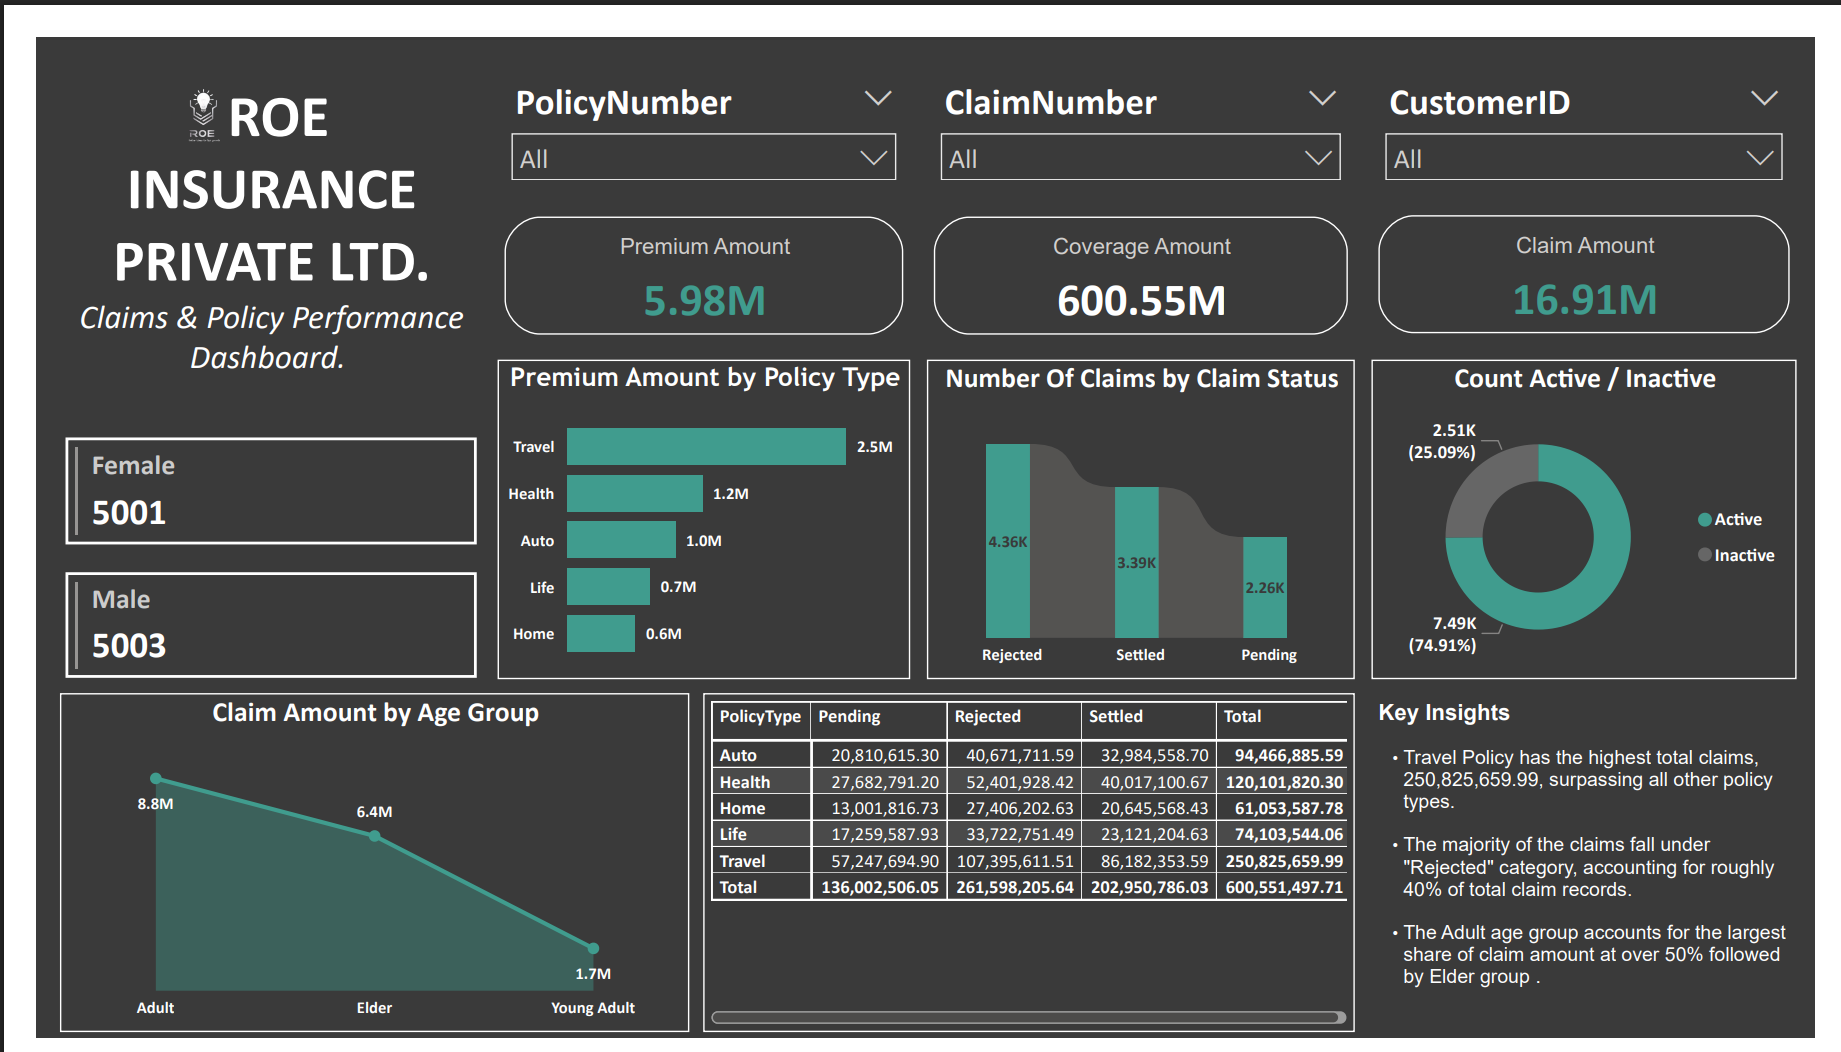

The dashboard page shown, as its layout file describes it:
{"tool":"powerbi","page":{"name":"Overview","canvas":[1280,720],"ordinal":0},"visuals":[{"type":"slicer","fields":{"Values":["02  InsuranceData.PolicyNumber"]},"box":[359.6,24.6,299.3,78.2],"z":0},{"type":"slicer","fields":{"Values":["02  InsuranceData.ClaimNumber"]},"box":[658.8,24.6,290.3,78.2],"z":1000},{"type":"slicer","fields":{"Values":["02  InsuranceData.CustomerID"]},"box":[949.1,24.6,306,78.2],"z":2000},{"type":"textbox","box":[17.3,24.5,304.4,246.7],"z":3000},{"type":"cardVisual","fields":{"Data":["Sum(02  InsuranceData.PremiumAmount)"]},"box":[357.8,115.4,301.5,102.4],"z":4000},{"type":"cardVisual","fields":{"Data":["Sum(02  InsuranceData.CoverageAmount)"]},"box":[659.3,115.4,290,102.4],"z":5000},{"type":"cardVisual","fields":{"Data":["Sum(02  InsuranceData.ClaimAmount)"]},"box":[949.3,115.4,305.9,102.4],"z":6000},{"type":"multiRowCard","fields":{"Values":["02  InsuranceData.Gender","CountNonNull(02  InsuranceData.Gender)"]},"box":[15.9,271.2,305.9,216.4],"z":7000},{"type":"ribbonChart","title":"Number Of Claims by Claim Status","fields":{"Category":["02  InsuranceData.ClaimStatus"],"Y":["CountNonNull(02  InsuranceData.ClaimStatus)"]},"box":[640.6,232.3,308.8,229.4],"z":8000},{"type":"barChart","title":"Premium Amount by Policy Type","fields":{"Category":["02  InsuranceData.PolicyType"],"Y":["Sum(02  InsuranceData.PremiumAmount)"]},"box":[331.8,232.3,297.2,229.4],"z":9000},{"type":"lineChart","title":"Claim Amount by Age Group","fields":{"Category":["02  InsuranceData.Age Group"],"Y":["Sum(02  InsuranceData.ClaimAmount)"]},"box":[17.3,471.8,453,243.8],"z":10000},{"type":"donutChart","title":"Count Active / Inactive","fields":{"Category":["02  InsuranceData.Active / Inactive "],"Y":["CountNonNull(02  InsuranceData.Active / Inactive )"]},"box":[960.9,232.3,305.9,229.4],"z":11000},{"type":"pivotTable","fields":{"Values":["Sum(02  InsuranceData.CoverageAmount)"],"Rows":["02  InsuranceData.PolicyType"],"Columns":["02  InsuranceData.ClaimStatus"]},"box":[480.4,471.8,468.9,243.8],"z":12000},{"type":"image","box":[15.9,24.5,206.3,57.7],"z":13000},{"type":"textbox","box":[960.9,471.8,305.9,243.8],"z":14000}]}

Visuals, with their boxes in screenshot pixels (x1, y1, x2, y2), scaled from the page's 1280x720 canvas onto the 1841x1052 screenshot:
slicer - 02  InsuranceData.PolicyNumber: crop(517, 36, 948, 150)
slicer - 02  InsuranceData.ClaimNumber: crop(948, 36, 1365, 150)
slicer - 02  InsuranceData.CustomerID: crop(1365, 36, 1805, 150)
textbox: crop(25, 36, 463, 396)
cardVisual - Sum(02  InsuranceData.PremiumAmount): crop(515, 169, 948, 318)
cardVisual - Sum(02  InsuranceData.CoverageAmount): crop(948, 169, 1365, 318)
cardVisual - Sum(02  InsuranceData.ClaimAmount): crop(1365, 169, 1805, 318)
multiRowCard - 02  InsuranceData.Gender x CountNonNull(02  InsuranceData.Gender): crop(23, 396, 463, 712)
"Number Of Claims by Claim Status" ribbonChart: crop(921, 339, 1366, 675)
"Premium Amount by Policy Type" barChart: crop(477, 339, 905, 675)
"Claim Amount by Age Group" lineChart: crop(25, 689, 676, 1046)
"Count Active / Inactive" donutChart: crop(1382, 339, 1822, 675)
pivotTable - Sum(02  InsuranceData.CoverageAmount) x 02  InsuranceData.PolicyType: crop(691, 689, 1365, 1046)
image: crop(23, 36, 320, 120)
textbox: crop(1382, 689, 1822, 1046)
